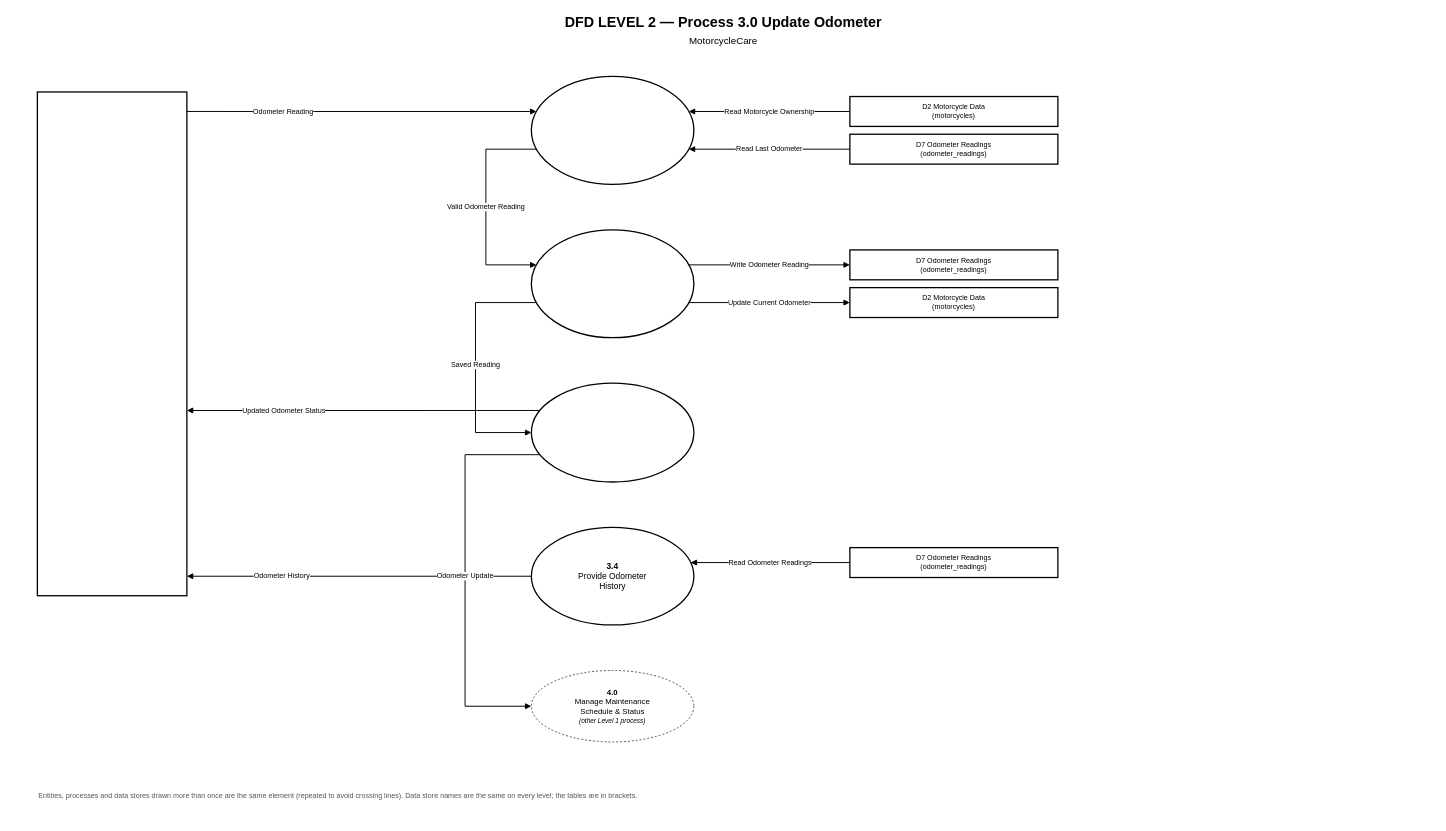
Image size: 1446x831. Some labels were removed from this diagram. The shapes that lost their labels are listed below. From the top down, each one's box as (x1, y1, x2, y2) in pixels, then its label:
(530, 75, 694, 185): 3.1 Validate Odometer Reading
(530, 229, 694, 338): 3.2 Save Odometer Reading
(36, 91, 187, 596): Motorcycle Owner
(530, 382, 694, 482): 3.3 Send Odometer Update
